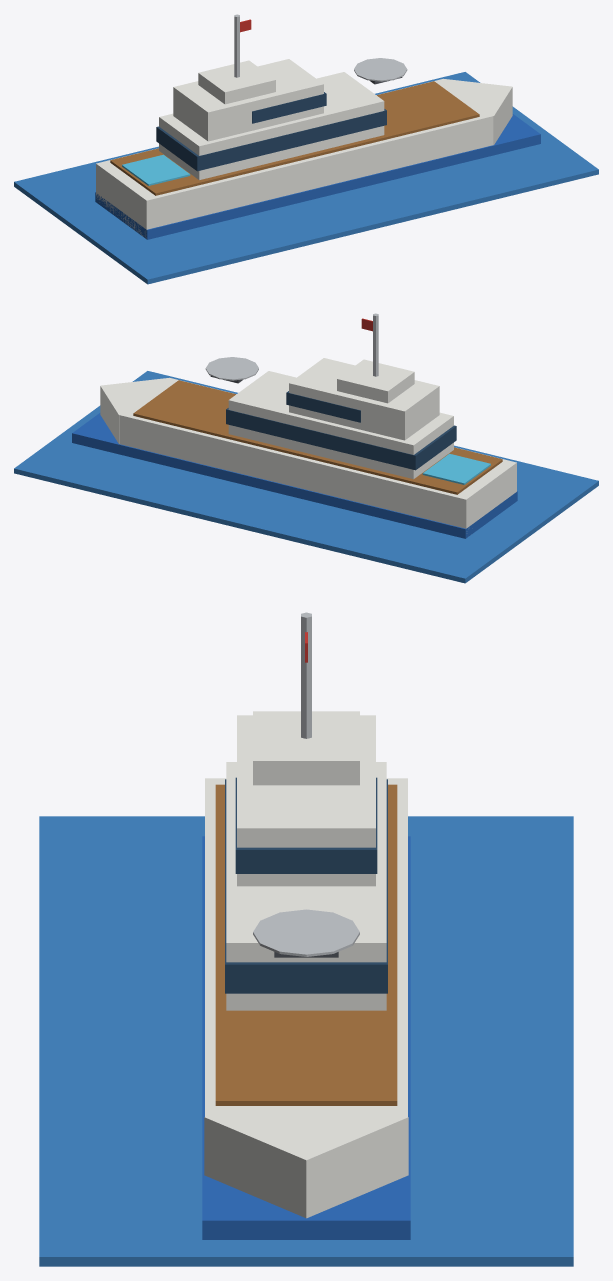
Rendered from yacht.glb.
3 views of the same model, one above another, from view 1: azimuth 30°, elevation 25°; view 2: azimuth 150°, elevation 25°; view 3: azimuth 270°, elevation 25° (orthographic). The views are drawn at different scales.
Parts seen in each view (by area): view 1: yacht; view 2: yacht; view 3: yacht.
Part boxes in pixels (x1=…): yacht: x1=14, y1=14, x2=598, y2=284; yacht: x1=14, y1=313, x2=598, y2=583; yacht: x1=39, y1=612, x2=573, y2=1266.
Size of the model in its own units: 1.95 by 0.75 by 1.
